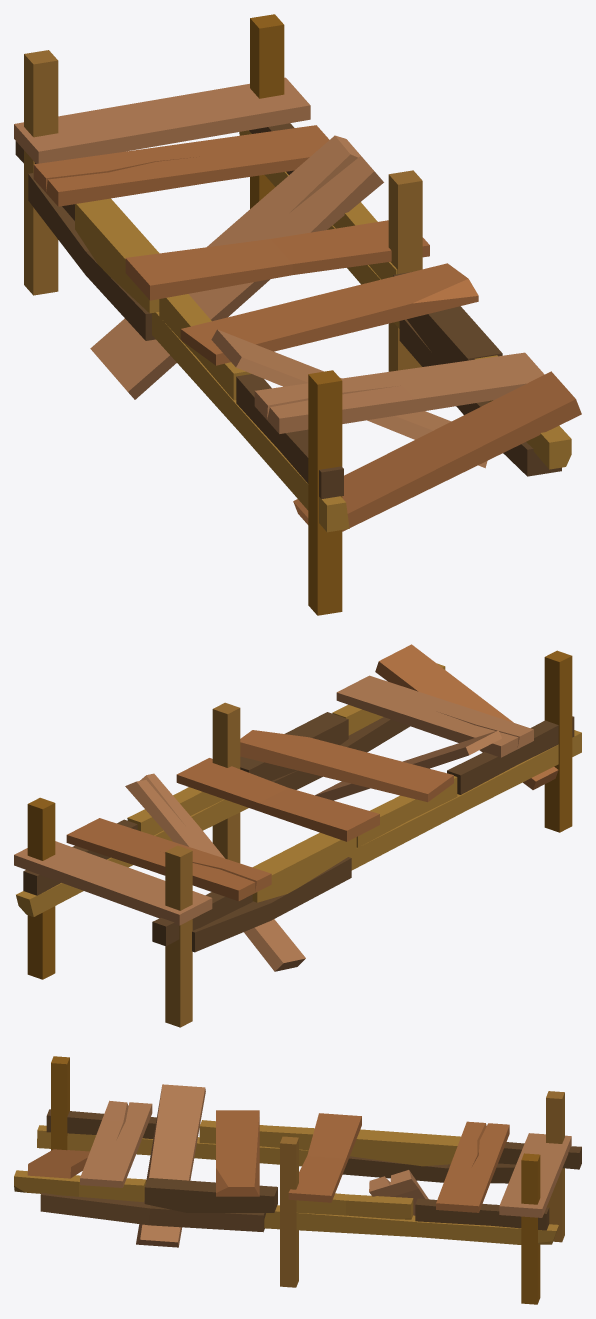
Rendered from Bridge_2.fbx.
3 renders of one model, top to bottom at view 1: azimuth 30°, elevation 25°; view 2: azimuth 150°, elevation 25°; view 3: azimuth 270°, elevation 25°, orthographic. The views are drawn at different scales.
Parts seen in each view (by area): view 1: M_Bridge 2; view 2: M_Bridge 2; view 3: M_Bridge 2.
Boxes of the visible parts, x1,y1,x2,y2 form: M_Bridge 2: (14,14,581,615); M_Bridge 2: (14,644,581,1027); M_Bridge 2: (14,1056,581,1304).
Size of the model in its own units: 1.69 by 1.07 by 3.69.
Materials: 1 (1 with a texture image).
